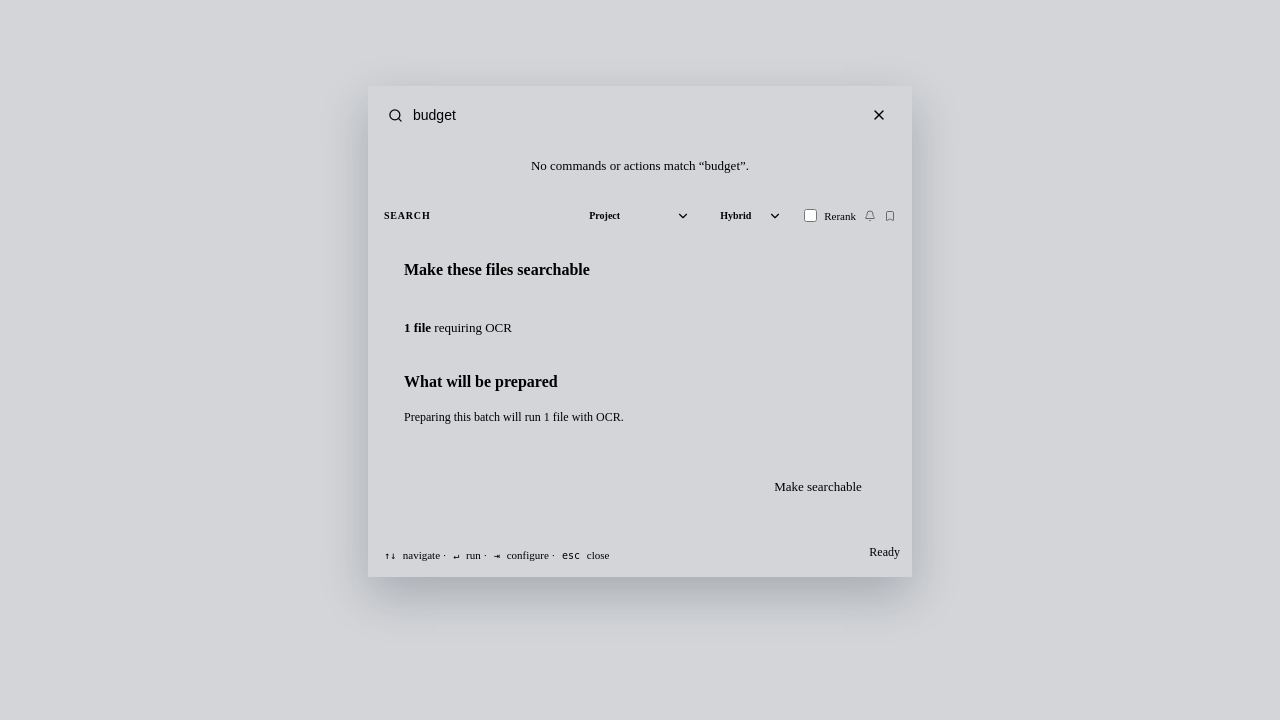
it: located palette search › keeps the text choice in Search until explicit Prepare, then returns to the workspace
Click the button with test id "search-preparation-decision-prepare".
click(818, 487)  # box [760,479,876,495]
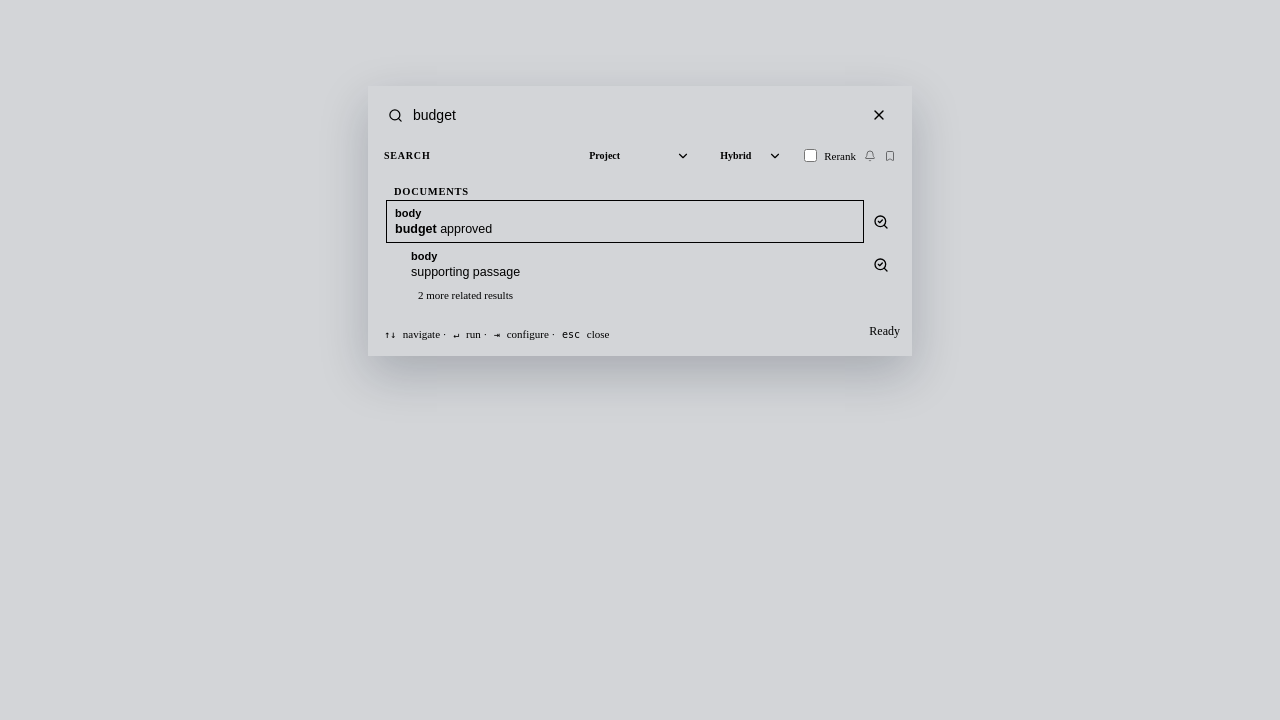
Check: the element with test id "search-preparation-receipt" is gone
